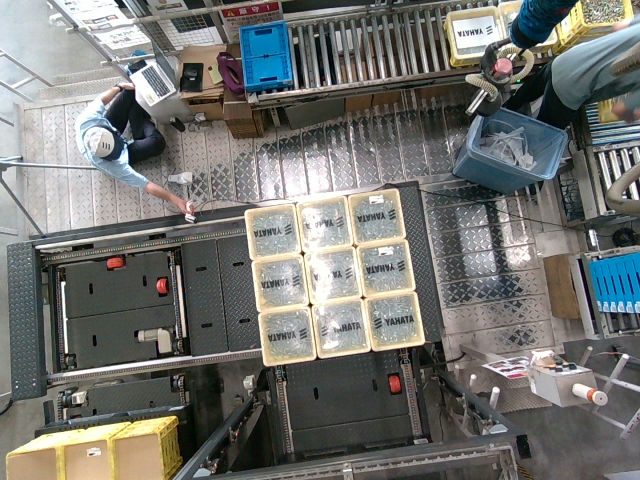box: (242, 204, 298, 256), (293, 197, 349, 249), (350, 188, 406, 240), (359, 243, 415, 295), (306, 249, 362, 301), (251, 257, 307, 309), (256, 312, 312, 364), (311, 301, 367, 353), (365, 295, 421, 347)
